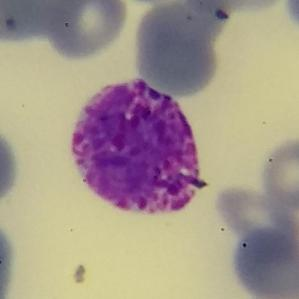Basophil: (59, 70, 218, 231)
Platelets: (282, 0, 299, 35)
RBC: (130, 0, 226, 100), (211, 183, 298, 255), (40, 0, 131, 61), (227, 224, 299, 299), (257, 133, 299, 208), (0, 0, 57, 44), (0, 118, 22, 209), (0, 209, 18, 296), (181, 0, 252, 19), (211, 0, 296, 14), (282, 0, 299, 36)
